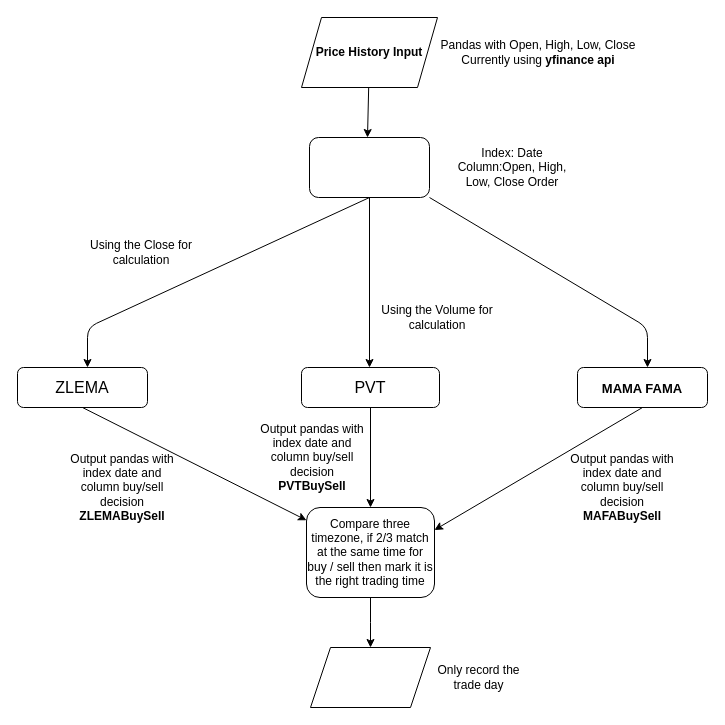
The diagram is 725 pixels wide and 725 high, and some of its shapes have lost their labels. Each missing label, with the box of its shape:
Output: (310, 646, 430, 708)
Process data to desired format: (308, 136, 430, 198)
